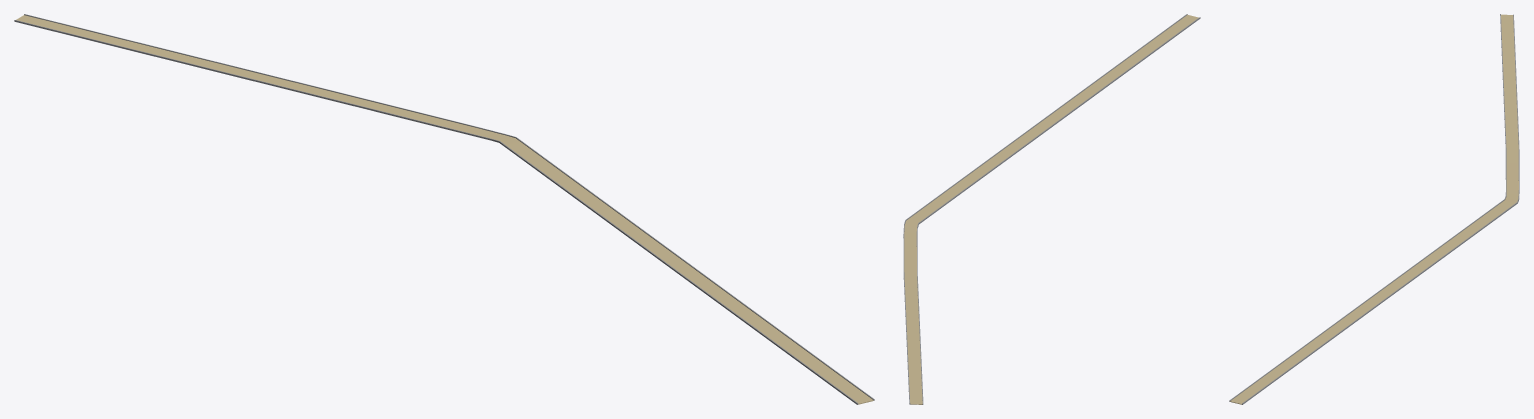
Rendered from Sidewalk_1.gltf.
3 views of the same model, side by side, from view 1: azimuth 30°, elevation 25°; view 2: azimuth 150°, elevation 25°; view 3: azimuth 330°, elevation 25° (orthographic). The views are drawn at different scales.
Visible parts, largest first — view 1: sidewalk; view 2: sidewalk; view 3: sidewalk.
Part boxes in pixels (bbox=[...]): sidewalk: bbox=[14, 14, 874, 404]; sidewalk: bbox=[903, 14, 1200, 404]; sidewalk: bbox=[1229, 14, 1519, 404].
Bounding box in the file's own units: 4.95 × 0.138 × 19.64.
Materials: 1 (1 with a texture image).
